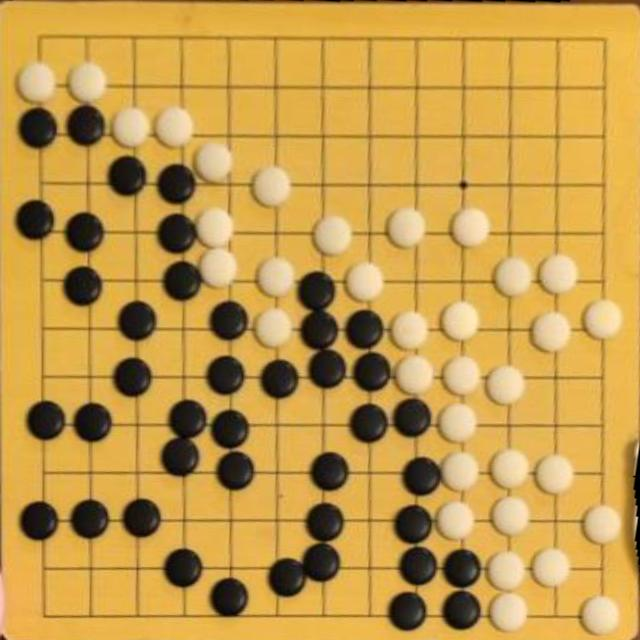blackstone: (63, 264, 104, 306), (18, 107, 59, 149), (65, 211, 106, 252), (66, 104, 106, 146), (113, 357, 153, 398), (70, 499, 110, 540), (157, 212, 198, 252), (16, 198, 55, 240), (74, 402, 114, 442), (163, 261, 203, 301), (306, 502, 346, 542), (402, 457, 442, 497), (310, 451, 351, 490), (399, 546, 438, 587), (108, 156, 147, 197), (443, 589, 482, 630), (349, 404, 388, 444), (21, 500, 60, 540), (27, 401, 66, 441), (393, 398, 432, 438), (164, 548, 203, 588), (119, 301, 158, 340), (395, 505, 434, 544), (301, 310, 340, 349), (443, 549, 482, 588), (217, 451, 255, 491), (123, 498, 161, 538), (354, 351, 392, 391), (208, 356, 246, 396), (158, 164, 196, 204), (162, 438, 200, 477), (211, 578, 249, 617), (309, 349, 347, 388), (346, 310, 384, 349), (169, 400, 208, 438), (298, 271, 336, 310), (212, 410, 250, 448), (390, 592, 428, 630), (262, 359, 300, 397), (303, 543, 341, 581), (210, 302, 249, 339), (269, 559, 307, 596)
whitestone: (581, 504, 625, 547), (578, 594, 622, 637), (439, 450, 482, 493), (489, 495, 532, 538), (16, 59, 58, 103), (485, 364, 527, 407), (394, 354, 436, 397), (437, 402, 480, 444), (312, 213, 355, 255), (582, 298, 625, 340), (252, 165, 294, 208), (442, 354, 484, 396), (534, 453, 576, 495), (450, 206, 492, 248), (530, 546, 572, 588), (154, 106, 196, 148), (486, 549, 528, 591), (490, 448, 531, 491), (493, 255, 534, 297), (345, 261, 386, 303), (198, 247, 239, 289), (387, 207, 429, 248), (489, 591, 530, 633), (194, 141, 234, 183), (111, 106, 151, 148), (440, 301, 480, 342), (539, 254, 580, 294), (68, 61, 108, 102), (437, 500, 477, 541), (531, 312, 572, 352), (391, 311, 430, 351), (255, 308, 293, 348), (258, 258, 296, 298), (197, 207, 235, 246)
